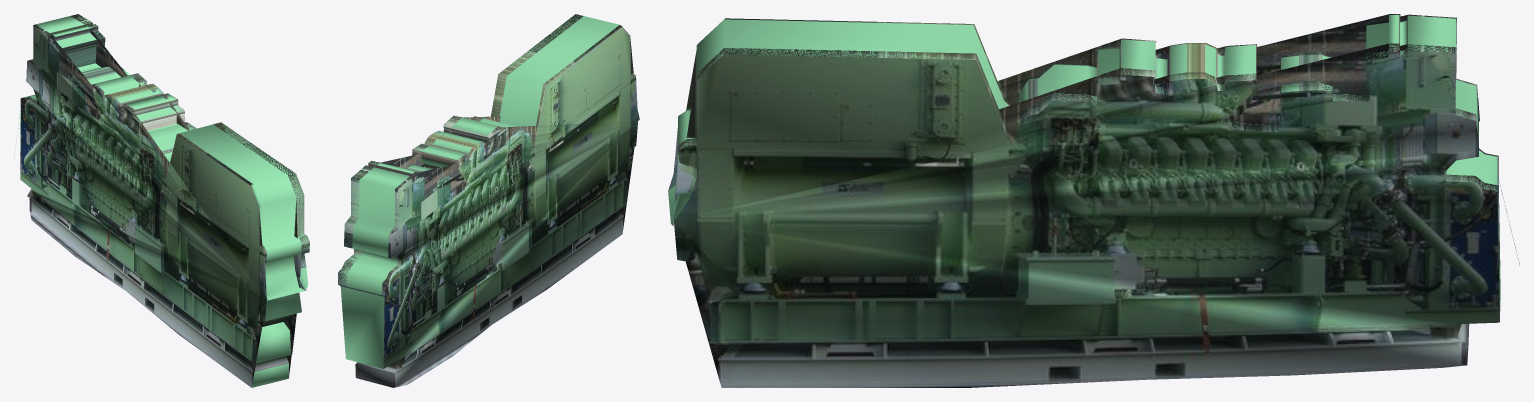
The model's file is engine_main.fbx.
3 renders of one model, left to right at view 1: azimuth 30°, elevation 25°; view 2: azimuth 150°, elevation 25°; view 3: azimuth 270°, elevation 25°, orthographic. The views are drawn at different scales.
Visible parts, largest first — view 1: diesel_gen; view 2: diesel_gen; view 3: diesel_gen.
Part boxes in pixels (x1,y1,x2,y2): diesel_gen: (14,14,309,387); diesel_gen: (338,14,639,387); diesel_gen: (668,14,1519,387).
Bounding box in the file's own units: 280 × 1078 × 2411.
Materials: 2 (1 with a texture image).
